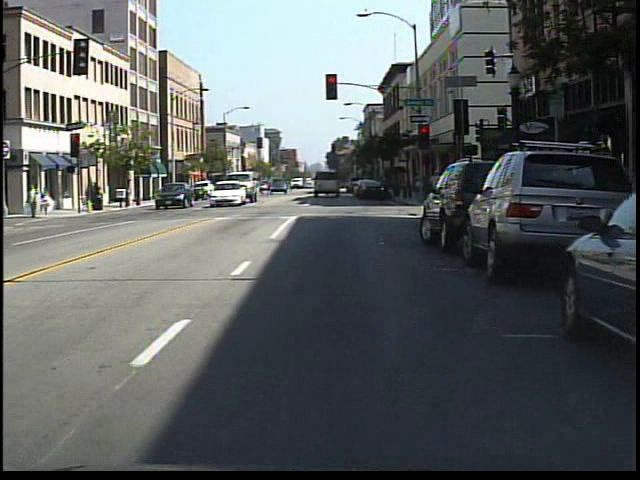person: (24, 182, 42, 223), (40, 186, 57, 221)
